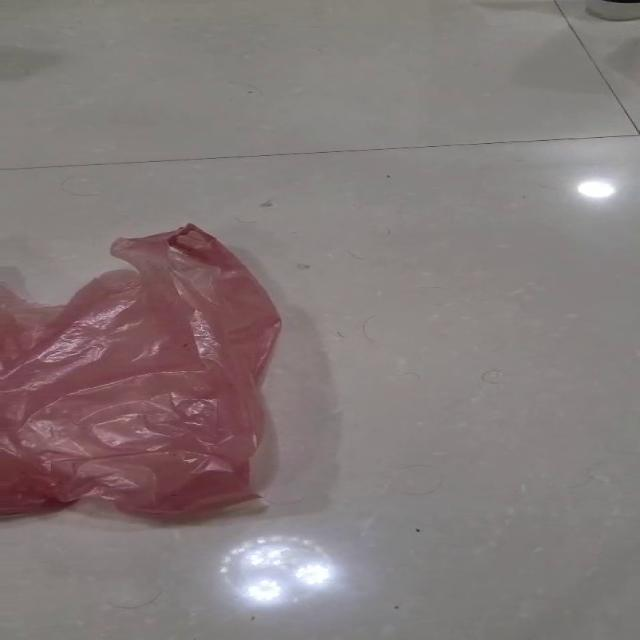plastic: (0, 222, 283, 518)
